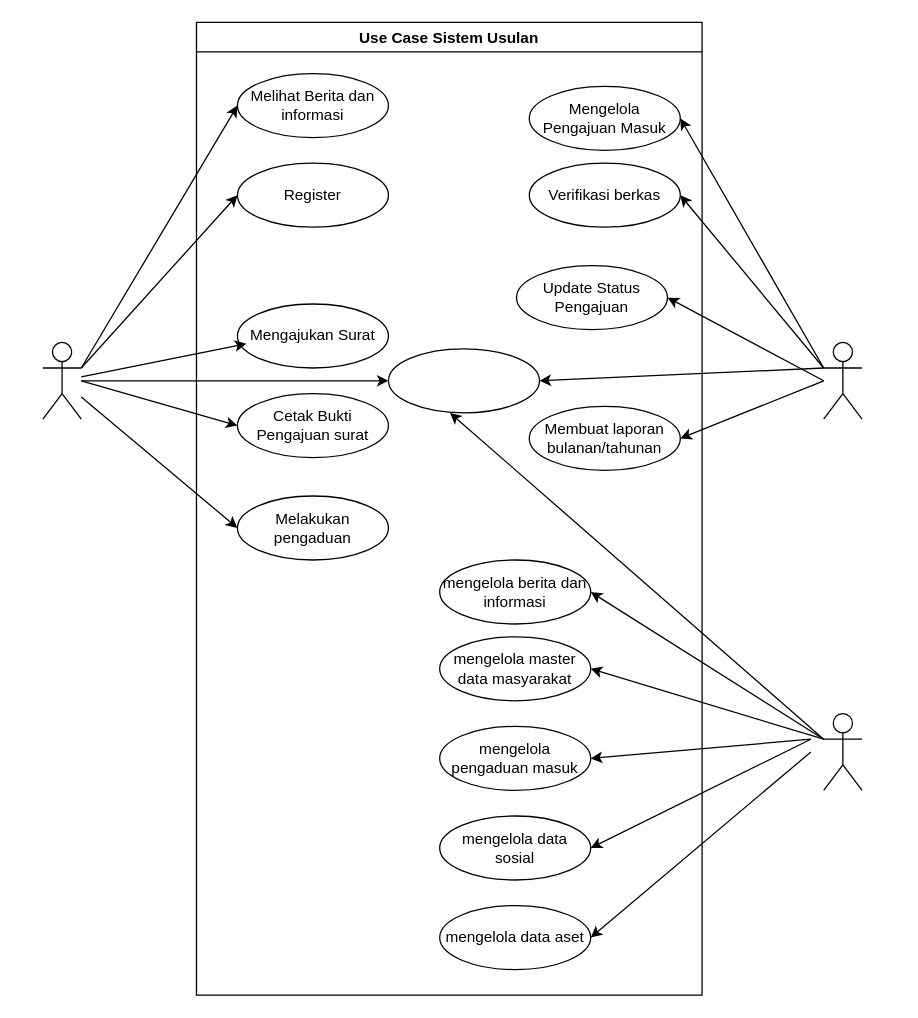
This 918x1018 diagram has some shape labels left out. The shapes that lost their labels are listed below. From the top down, each one's centre as x and y in pixels, then its label:
At [61,380]: "Masyarakat".
At [463,380]: "Login".
At [842,380]: "Front Office".
At [842,751]: "kaur Pelayanan".
